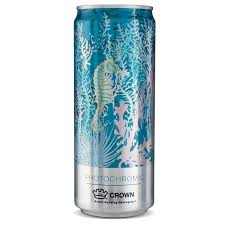can: (72, 2, 156, 220)
